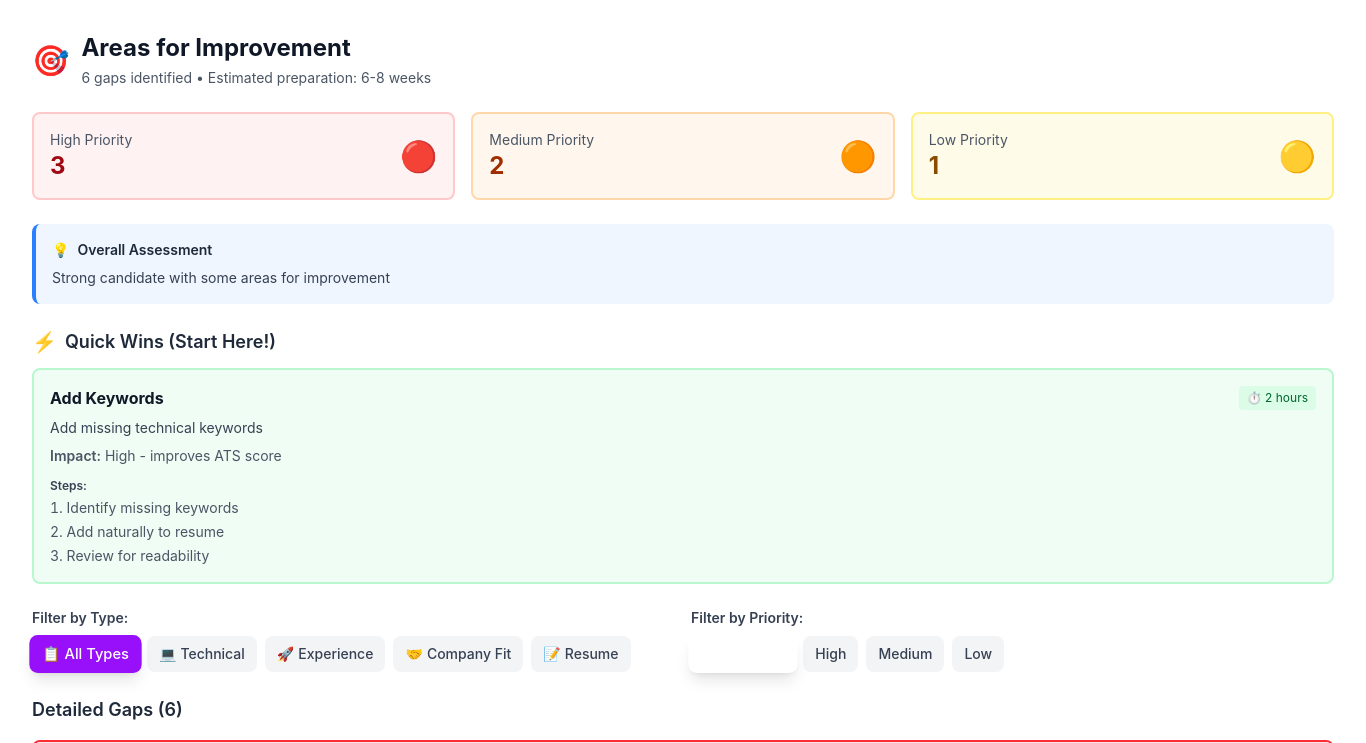
Test: GapsSection › combined filtering › shows clear filters button when filters are active
Check: the text "Clear Filters" is not shown
Click the button named "💻 Technical".
click(202, 654)  # box [147,636,257,672]
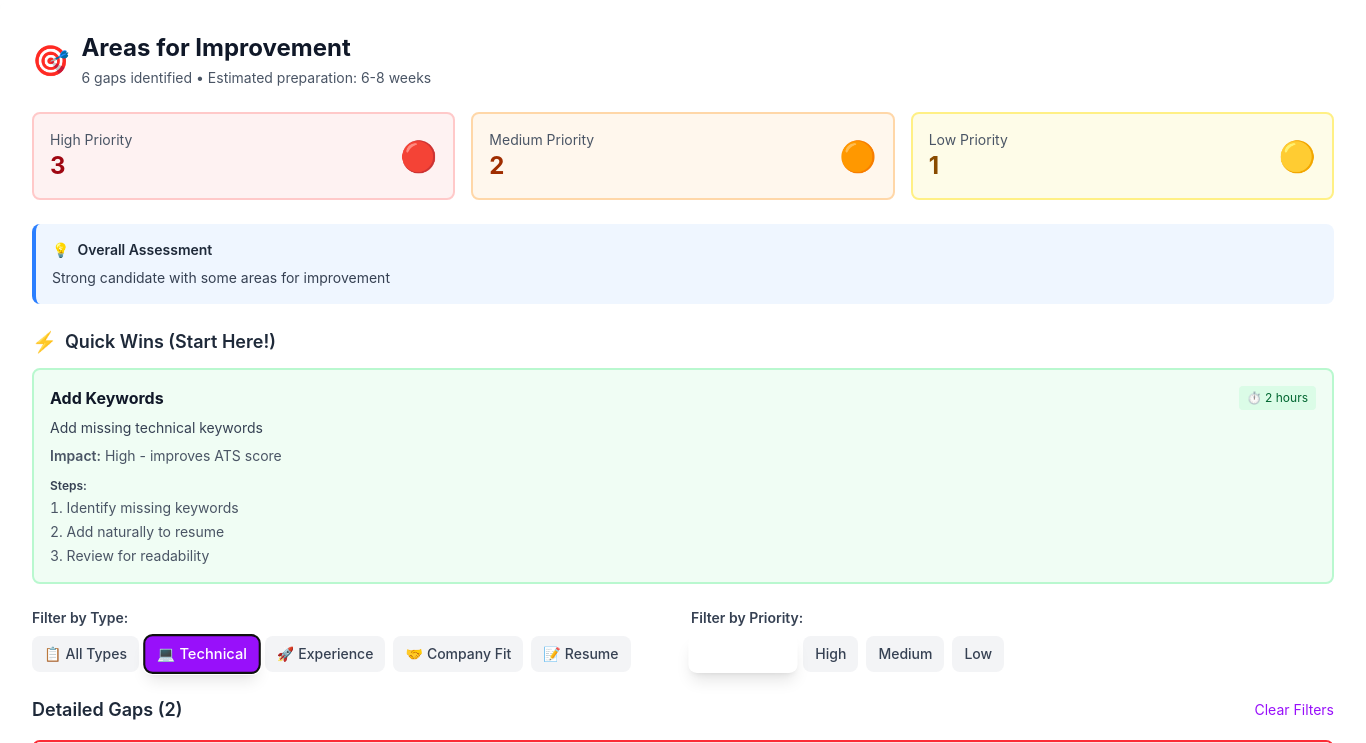
Check: the button "Clear Filters" is shown, box [1254,700,1334,720]
